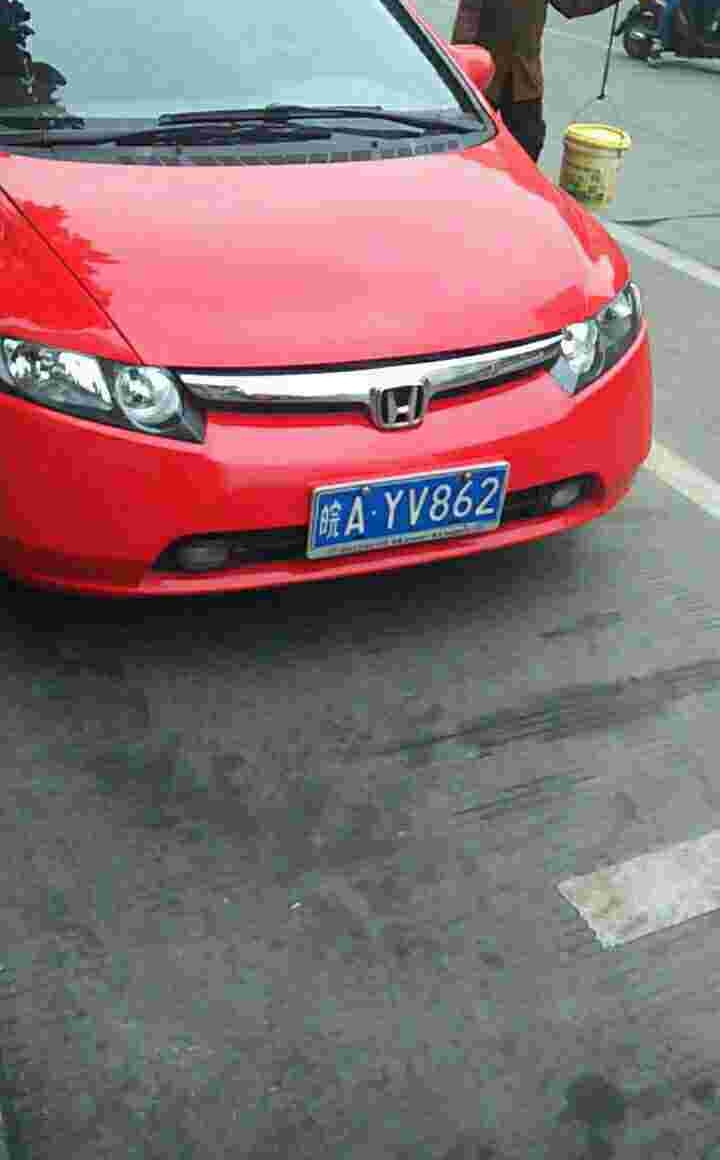license_plate: (318, 465, 508, 552)
